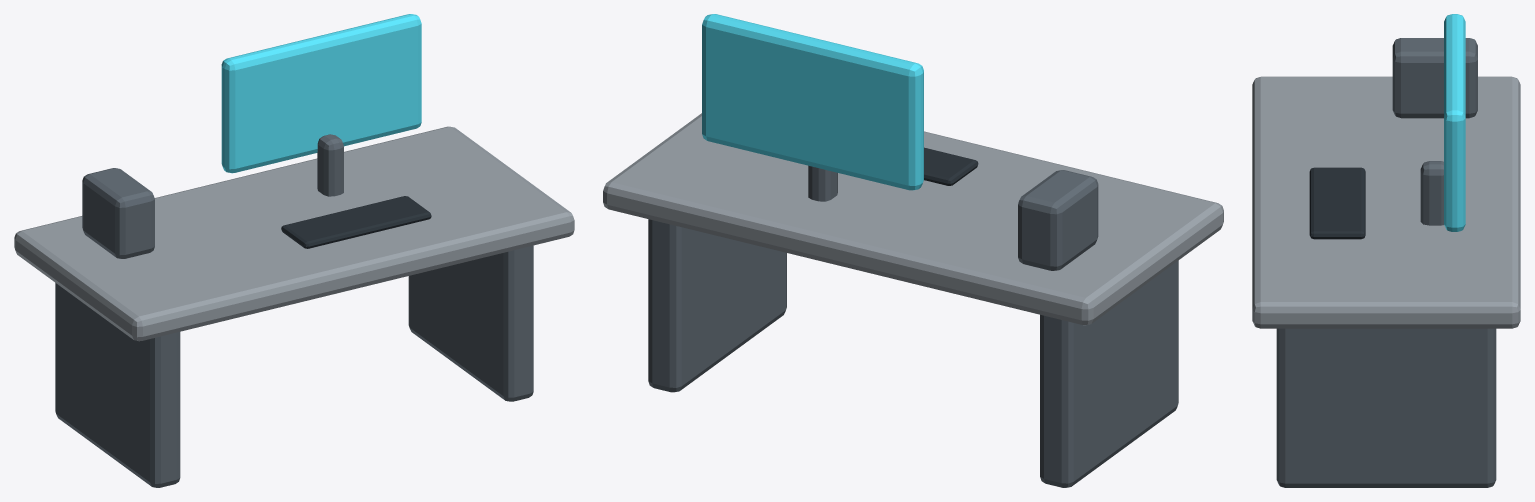
The model's file is 2_Feature.fbx.
3 renders of one model, left to right at view 1: azimuth 30°, elevation 25°; view 2: azimuth 150°, elevation 25°; view 3: azimuth 270°, elevation 25°, orthographic. The views are drawn at different scales.
Visible parts, largest first — view 1: Body; view 2: Body; view 3: Body.
Boxes of the visible parts, <box> form: Body: <box>14,14,574,487</box>; Body: <box>603,14,1223,487</box>; Body: <box>1252,14,1520,487</box>.
Size of the model in its own units: 2.25 by 1.63 by 1.1.
